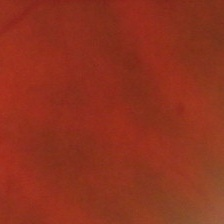MA: (175, 105, 186, 116)
